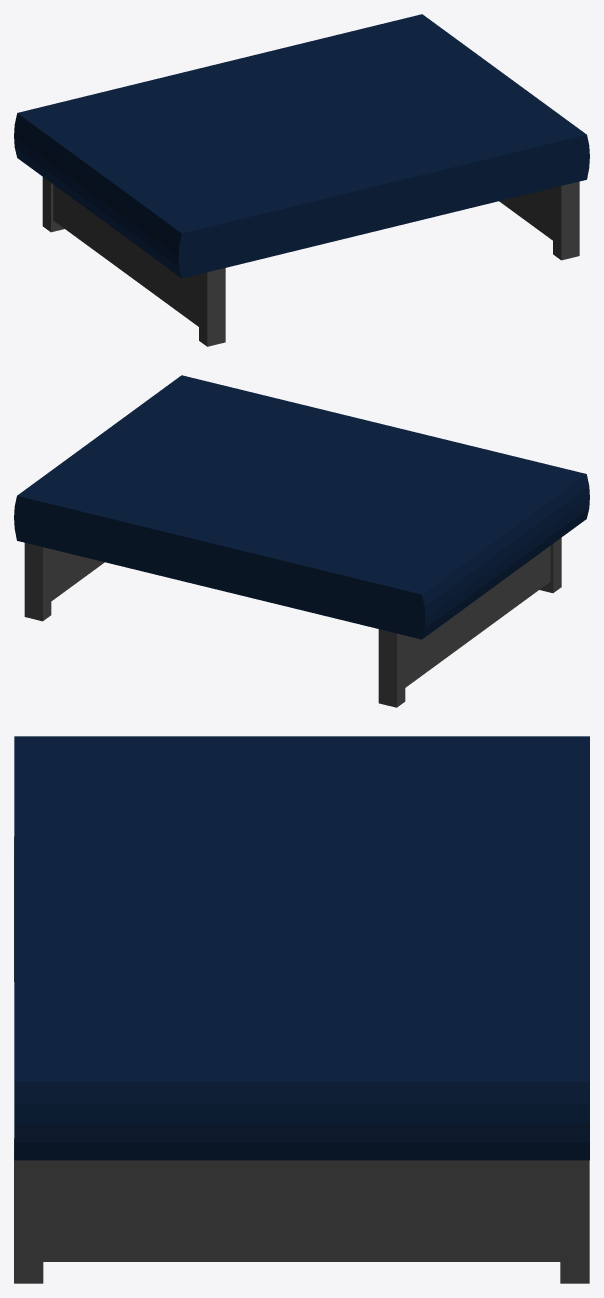
Rendered from Object_robotBase_conveyolBelt(small).fbx.
3 views of the same model, one above another, from view 1: azimuth 30°, elevation 25°; view 2: azimuth 150°, elevation 25°; view 3: azimuth 270°, elevation 25° (orthographic). The views are drawn at different scales.
Visible parts, largest first — view 1: cinta2; view 2: cinta2; view 3: cinta2.
Part boxes in pixels (<box>): cinta2: <box>14,14,589,346</box>; cinta2: <box>14,375,589,707</box>; cinta2: <box>14,736,589,1283</box>.
Bounding box in the file's own units: 2.88 × 0.8 × 2.
